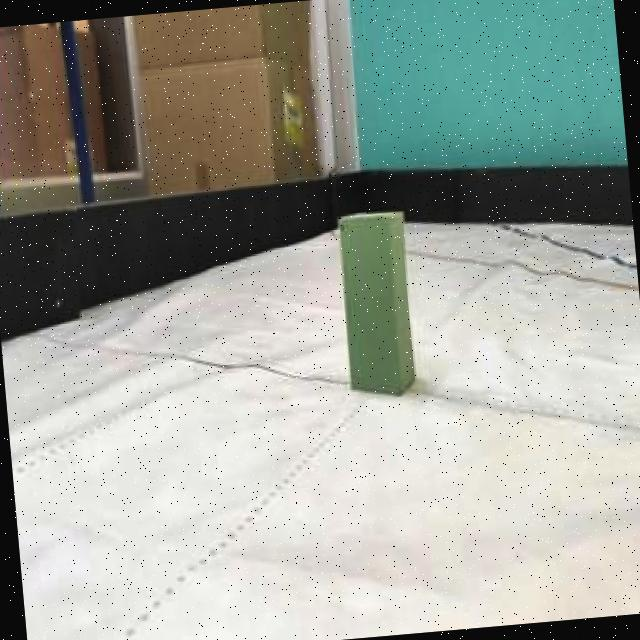greenbox: (334, 208, 422, 398)
